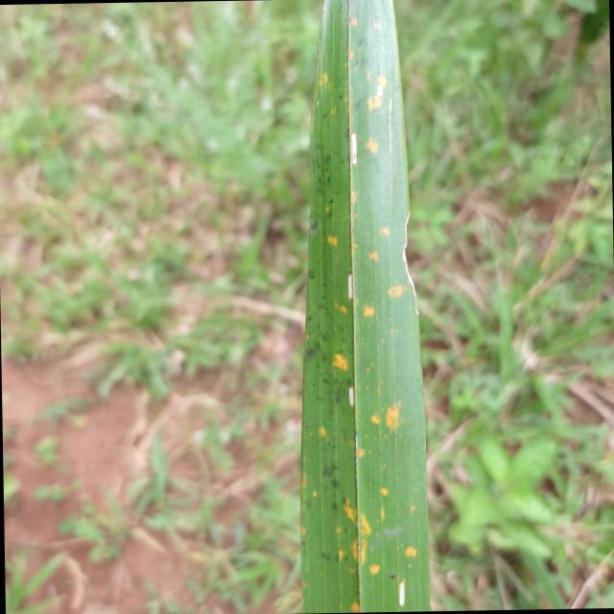Kalium: (299, 0, 433, 614)
